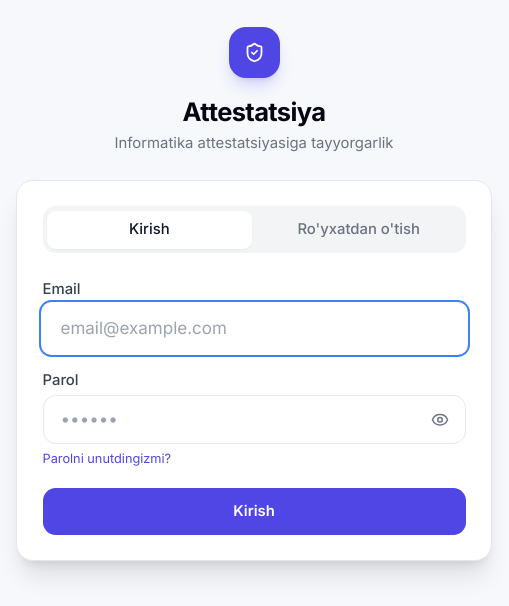
it: Auth sahifasi › login: noto'g'ri email formati validatsiya xatosi beradi
The width and height of the screenshot is (509, 606).
Type "not-an-email" into the field labelled "Email". click: (254,328)
box: [42,304,466,353]
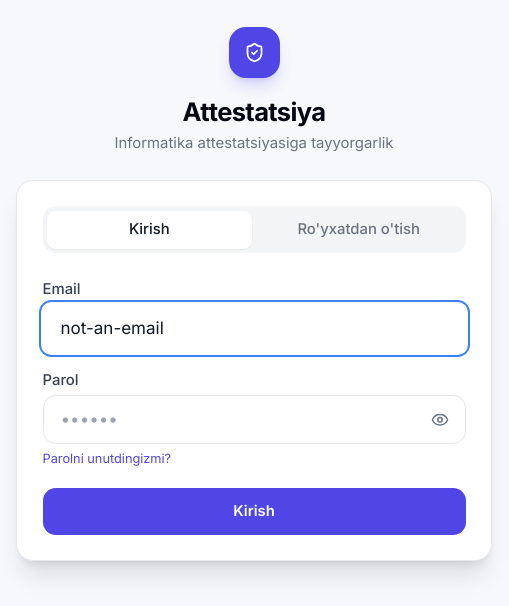
Type "secret123" into the password field labelled "Parol". click: (254,420)
box: [42,395,466,444]
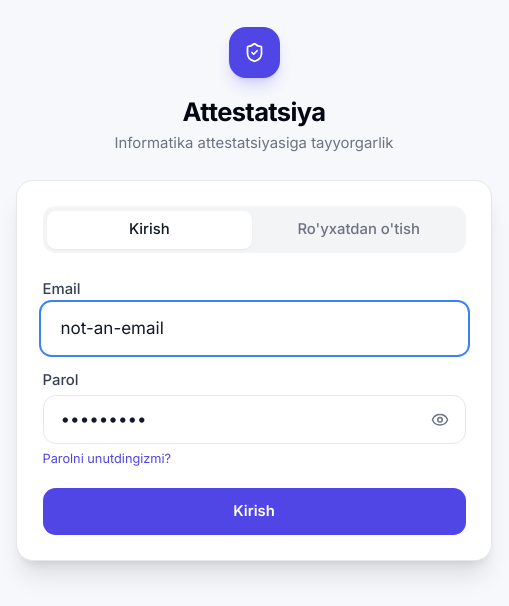
Submit the form labelled "Parol", box [42,279,466,535]
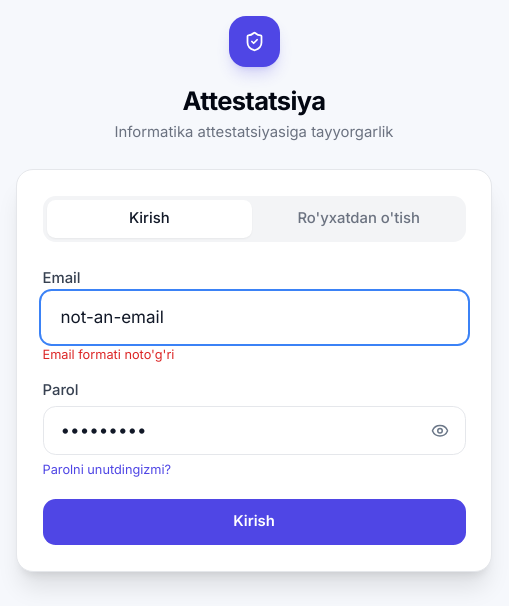
Expected: the text "Email formati noto'g'ri" is shown, [42,347,174,362]
